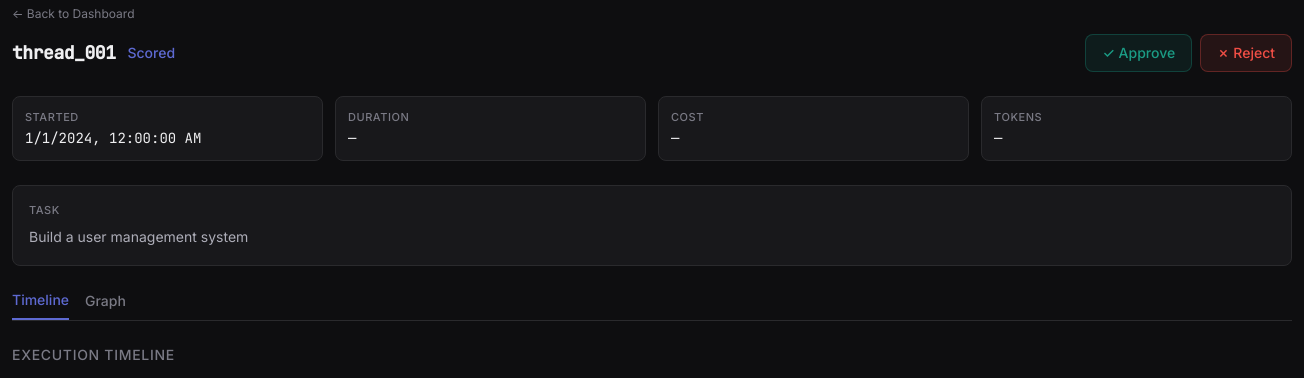
Test case: ExecutionPage › State Transitions › should show confirmation before reject
This screenshot has width=1304, height=378.
Click the button "✗ Reject" at (1246, 53), box [1200,34,1292,72]
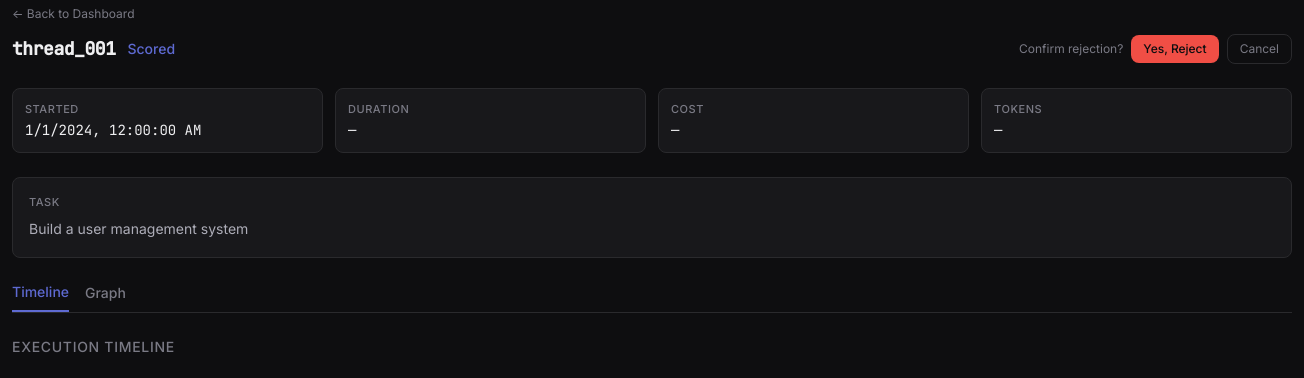
Check: the text "Confirm rejection?" is shown, box [1019,41,1123,57]
Check: the button "Yes, Reject" is shown, box [1131,35,1219,63]
